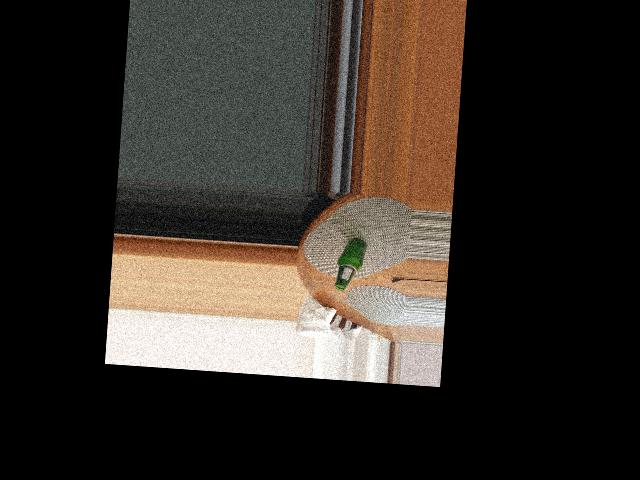beer: (336, 237, 367, 291)
